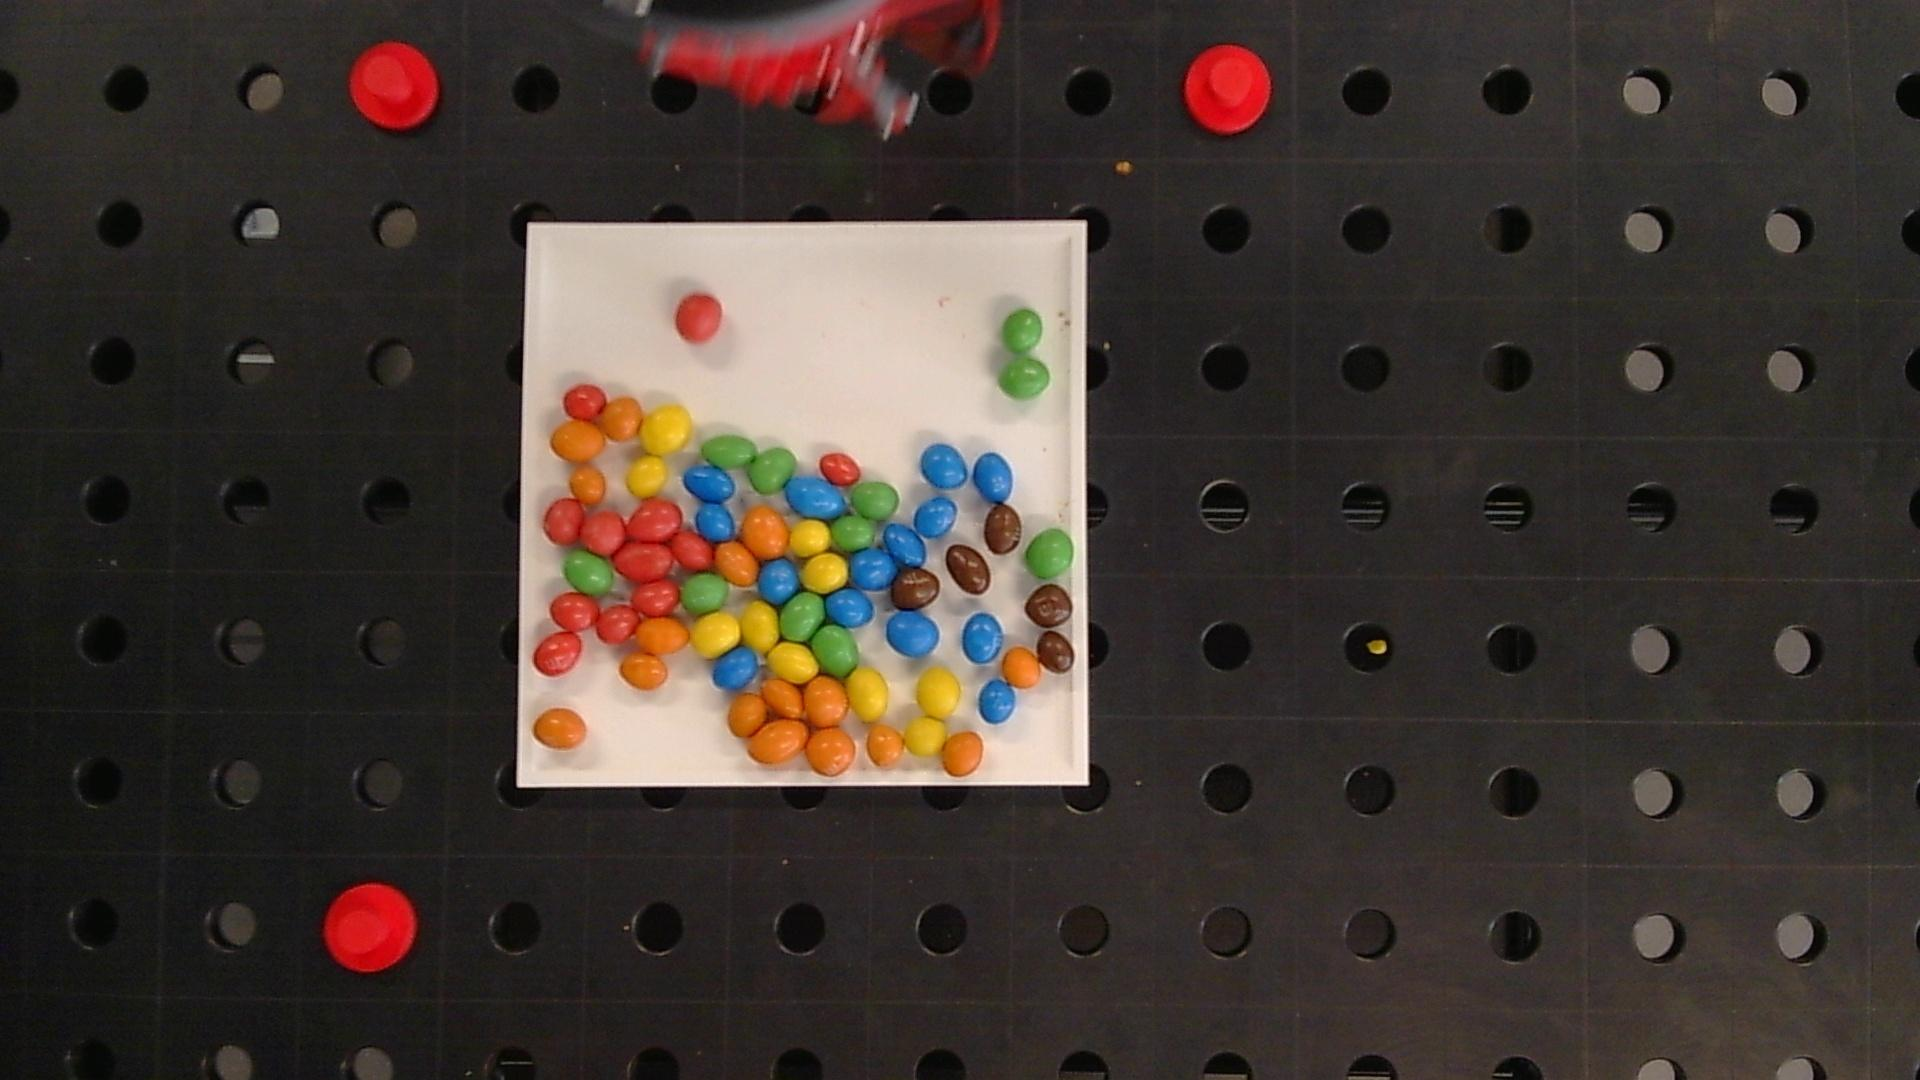blue: (785, 476, 847, 517), (886, 612, 940, 657), (920, 443, 967, 489), (963, 615, 1004, 663), (973, 452, 1013, 502), (683, 465, 736, 502), (712, 647, 760, 688), (851, 549, 897, 589), (882, 525, 927, 566), (758, 558, 799, 603), (827, 588, 874, 626), (914, 496, 957, 537), (978, 679, 1015, 724), (695, 504, 736, 539)
brown: (945, 543, 990, 595), (1025, 585, 1073, 629), (893, 568, 940, 609), (984, 504, 1022, 554), (1036, 632, 1075, 673)
green: (1026, 529, 1075, 578), (814, 626, 860, 675), (563, 550, 613, 595), (1000, 357, 1051, 400), (779, 593, 824, 641), (746, 448, 795, 492), (851, 481, 899, 521), (700, 435, 757, 468), (682, 574, 728, 613), (1002, 310, 1043, 353), (831, 516, 876, 551)
orange: (748, 719, 808, 764), (806, 728, 856, 775), (741, 506, 787, 558), (550, 421, 604, 462), (533, 708, 587, 748), (804, 678, 848, 727), (715, 541, 758, 585), (636, 617, 690, 653), (943, 732, 984, 777), (620, 653, 669, 690), (601, 397, 642, 439), (865, 725, 905, 766), (728, 694, 766, 736), (1002, 647, 1040, 687), (762, 679, 802, 716), (572, 468, 605, 502)
red: (674, 294, 723, 342), (613, 542, 673, 580), (629, 500, 682, 541), (534, 633, 583, 675), (542, 497, 584, 543), (550, 592, 597, 630), (632, 580, 679, 616), (585, 512, 625, 553), (563, 384, 607, 419), (671, 531, 712, 568), (596, 607, 638, 642), (820, 452, 861, 484)
yellow: (642, 405, 691, 454), (769, 640, 820, 683), (916, 669, 961, 717), (848, 667, 887, 721), (691, 613, 740, 657), (802, 553, 848, 592), (741, 601, 778, 650), (626, 455, 666, 497), (905, 717, 945, 754), (789, 521, 829, 556)
